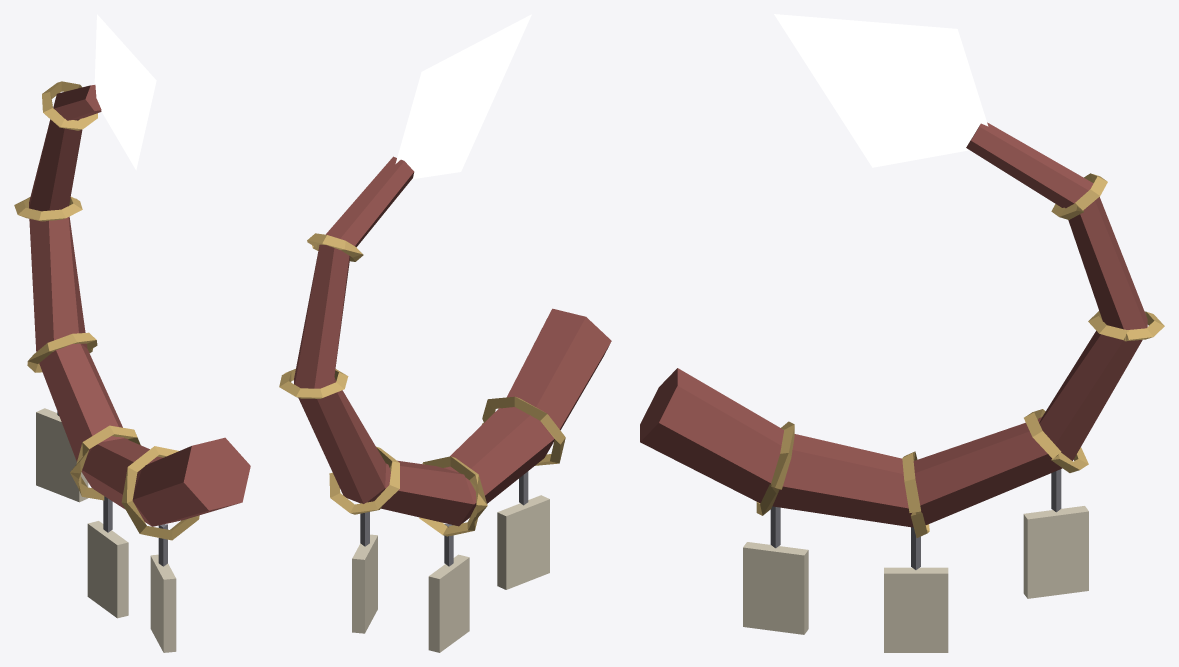
The model's file is imp-tail.glb.
3 views of the same model, side by side, from view 1: azimuth 30°, elevation 25°; view 2: azimuth 150°, elevation 25°; view 3: azimuth 270°, elevation 25° (orthographic). The views are drawn at different scales.
Parts seen in each view (by area): view 1: imp_tail; view 2: imp_tail; view 3: imp_tail.
Boxes of the visible parts, x1,y1,x2,y2 form: imp_tail: (14,14,250,652); imp_tail: (279,14,611,652); imp_tail: (640,14,1164,652).
Size of the model in its own units: 0.1245 by 0.5918 by 0.4489.
